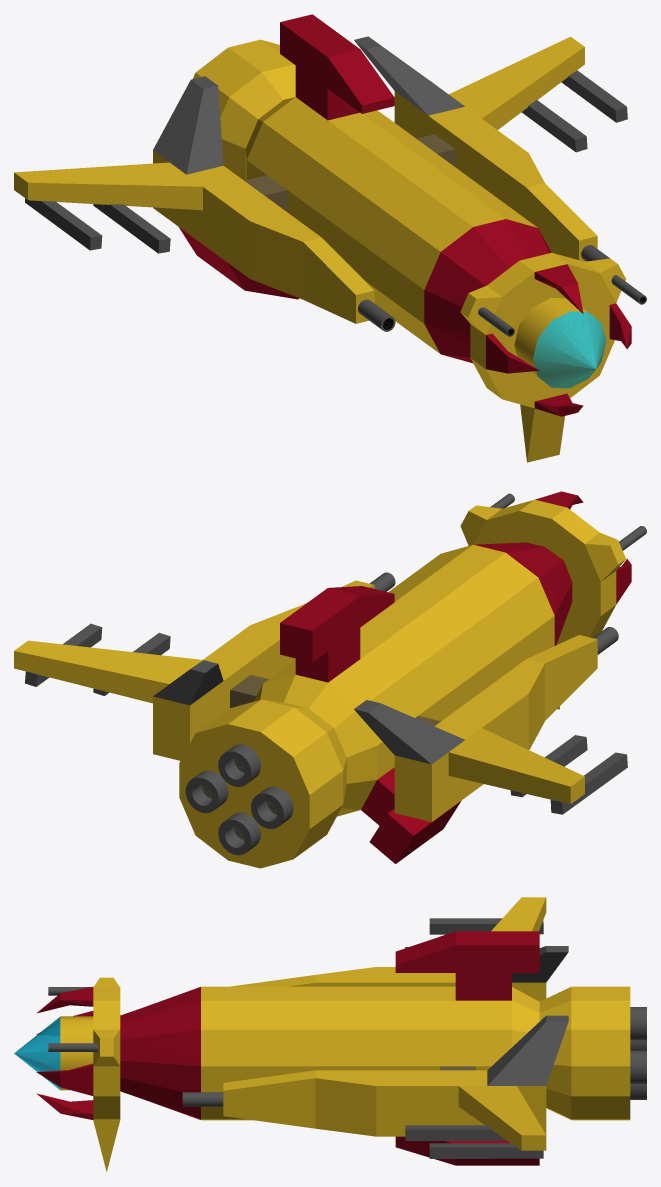
3 views of the same model, one above another, from view 1: azimuth 30°, elevation 25°; view 2: azimuth 150°, elevation 25°; view 3: azimuth 270°, elevation 25° (orthographic). The views are drawn at different scales.
Parts seen in each view (by area): view 1: SketchUp (×20); view 2: SketchUp (×18); view 3: SketchUp (×21).
Part boxes in pixels (<box>): SketchUp (×20): <box>14,14,631,462</box>; SketchUp (×18): <box>14,499,627,868</box>; SketchUp (×21): <box>14,897,646,1171</box>.
Size of the model in its own units: 659 by 741 by 294.
6 materials, 1 textured.
